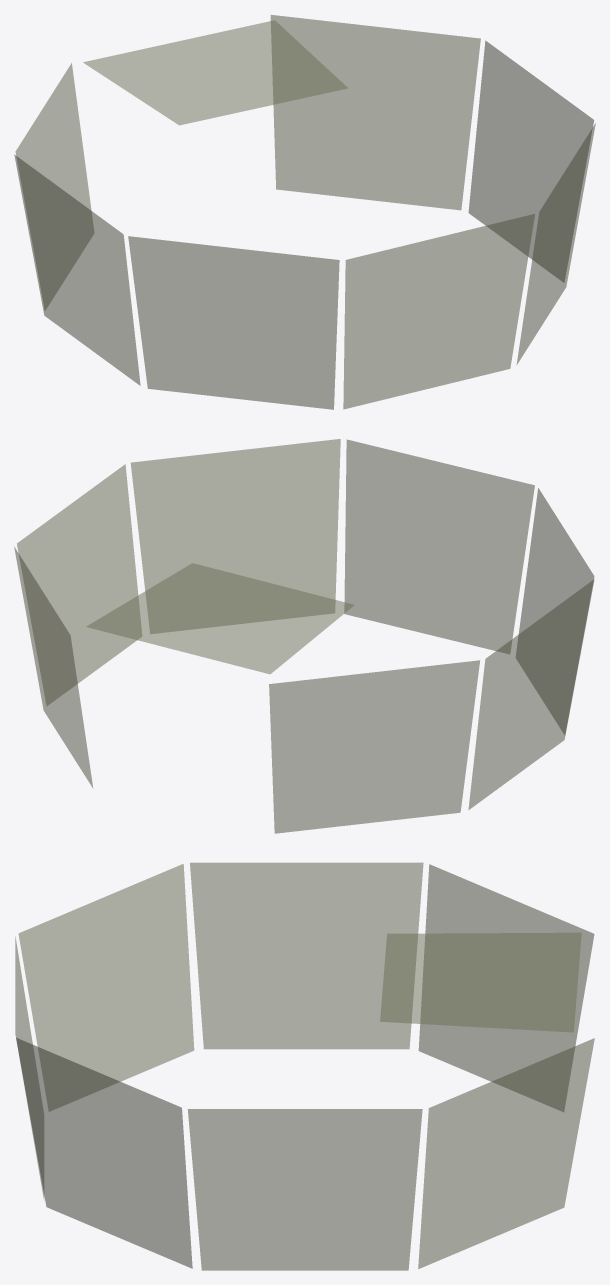
Rendered from SM_Bld_ControlTower_Glass_01.glb.
3 renders of one model, top to bottom at view 1: azimuth 30°, elevation 25°; view 2: azimuth 150°, elevation 25°; view 3: azimuth 270°, elevation 25°, orthographic. The views are drawn at different scales.
Visible parts, largest first — view 1: SM_Bld_ControlTower_Glass_01; view 2: SM_Bld_ControlTower_Glass_01; view 3: SM_Bld_ControlTower_Glass_01.
Part boxes in pixels (x1,y1,x2,y2): SM_Bld_ControlTower_Glass_01: (14,15,595,409); SM_Bld_ControlTower_Glass_01: (14,439,594,833); SM_Bld_ControlTower_Glass_01: (15,862,594,1270).
Size of the model in its own units: 7.94 by 2.7 by 7.91.
1 material, 1 textured.
